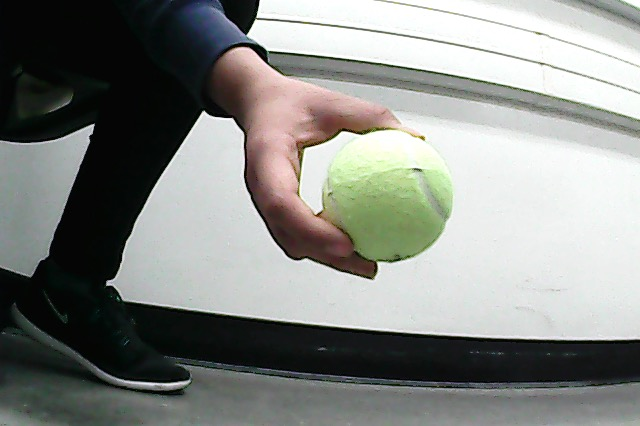ball: (324, 130, 454, 263)
